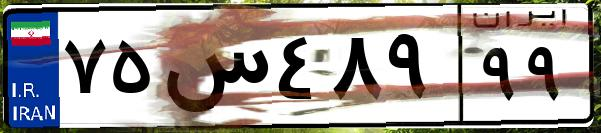4: (270, 28, 330, 110)
5: (110, 28, 158, 98)
7: (57, 26, 110, 100)
8: (330, 28, 385, 110)
9: (385, 28, 445, 110), (475, 38, 525, 113), (525, 38, 570, 115)
س: (158, 20, 270, 120)
